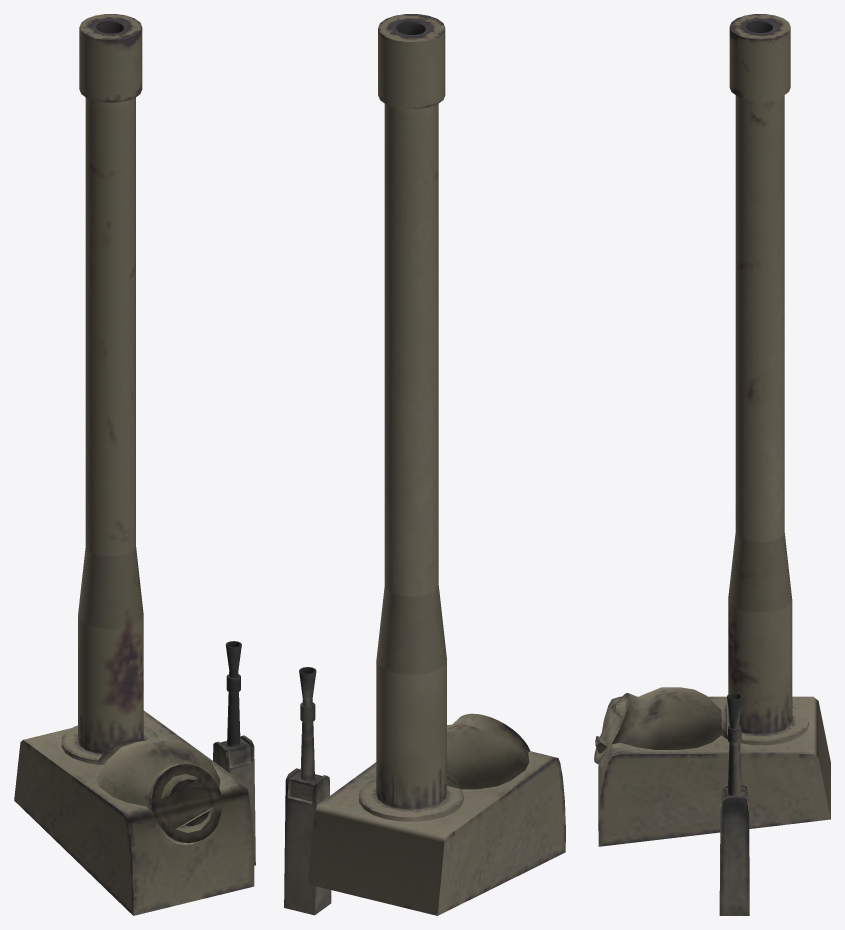
File: Gun_04.glb
3 renders of one model, left to right at view 1: azimuth 30°, elevation 25°; view 2: azimuth 150°, elevation 25°; view 3: azimuth 270°, elevation 25°, orthographic. The views are drawn at different scales.
Visible parts, largest first — view 1: set_0_group_0; view 2: set_0_group_0; view 3: set_0_group_0.
Part boxes in pixels (bbox=[...]): set_0_group_0: bbox=[14, 14, 255, 915]; set_0_group_0: bbox=[284, 14, 565, 915]; set_0_group_0: bbox=[594, 14, 830, 915].
Bounding box in the file's own units: 0.4517 × 1.99 × 0.5156.
1 material, 1 textured.
